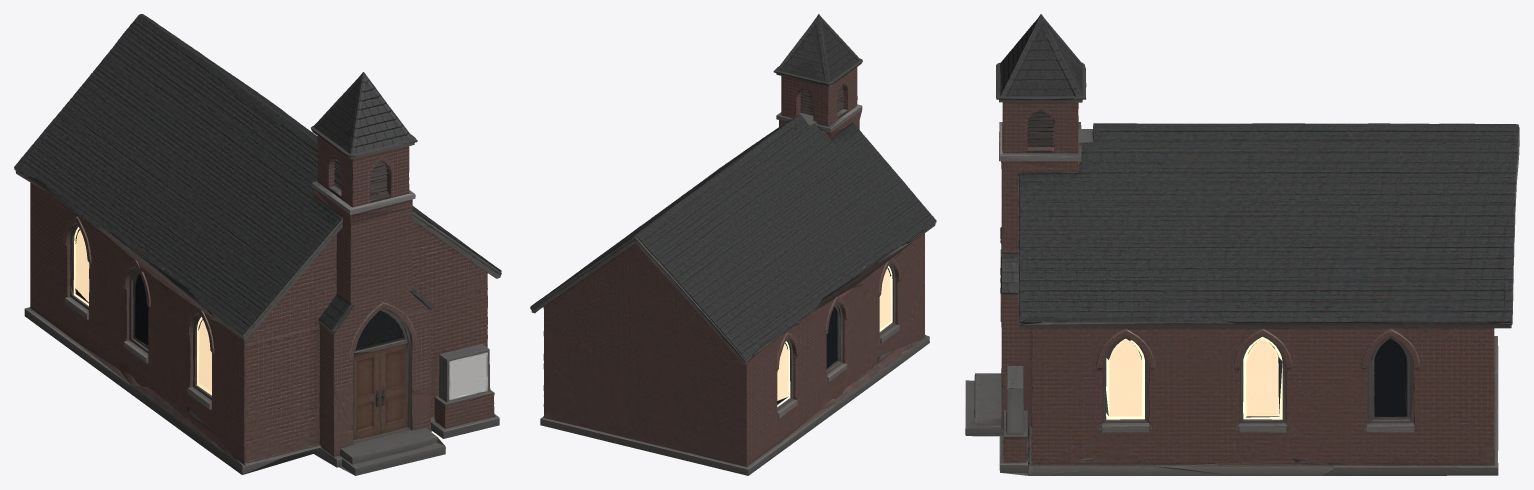
File: civic-church.glb
The picture shows the model from 3 angles, left to right: view 1: azimuth 30°, elevation 25°; view 2: azimuth 150°, elevation 25°; view 3: azimuth 270°, elevation 25°; orthographic projection. The views are drawn at different scales.
Visible parts, largest first — view 1: Mesh_0; view 2: Mesh_0; view 3: Mesh_0.
Boxes of the visible parts, x1,y1,x2,y2 form: Mesh_0: [14, 14, 501, 475]; Mesh_0: [530, 14, 936, 475]; Mesh_0: [965, 14, 1519, 475].
Bounding box in the file's own units: 9.6 × 13 × 16.42.
Materials: 4 (4 with a texture image).
